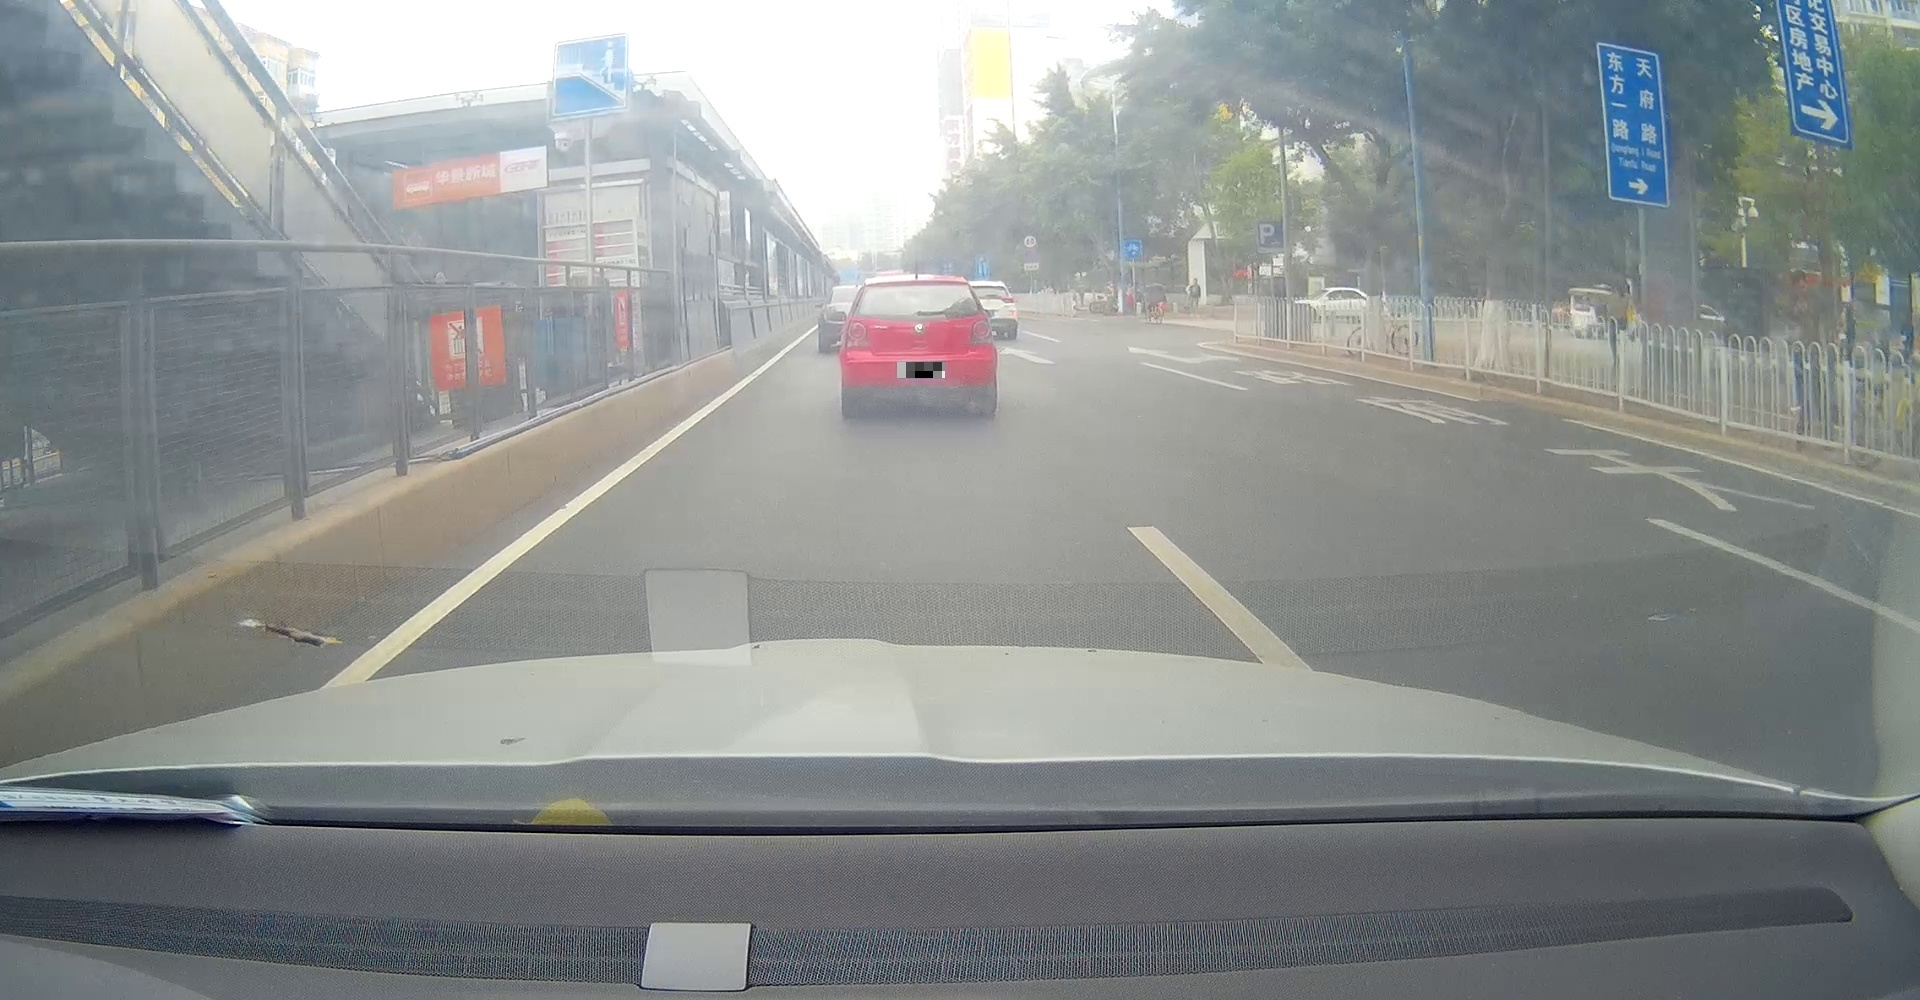L_light: (841, 319, 871, 349)
R_light: (970, 316, 994, 346)
T_light: (907, 284, 930, 291)
day-no: (837, 273, 999, 418)
plate_1: (897, 362, 945, 378)
